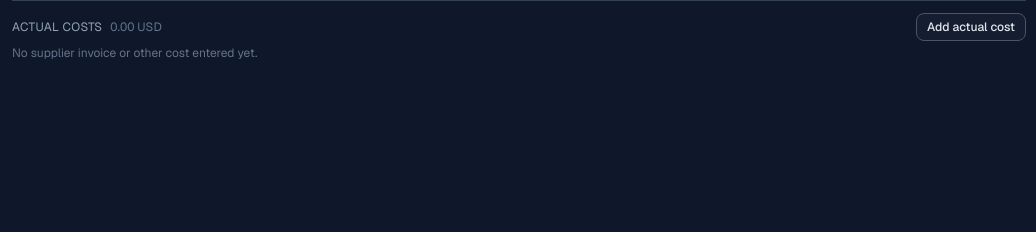
Test case: ActualCostsPanel on a Silao change › offers MXN with a note that Mexico is not in use yet
The width and height of the screenshot is (1036, 232).
What coordinates should you click on to do the following:
click the button with test id "actual-cost-open"
I would click on:
 (971, 27)
Its box is [916,13,1026,41].
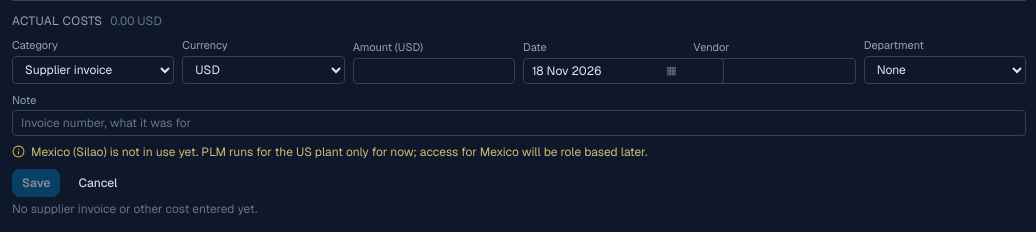
Expected: the dropdown with test id "actual-cost-currency" is shown, [182,56,345,84]
Expected: the element with test id "plant-not-in-use" shows "Mexico (Silao) is not in use yet.", [31,144,647,160]
